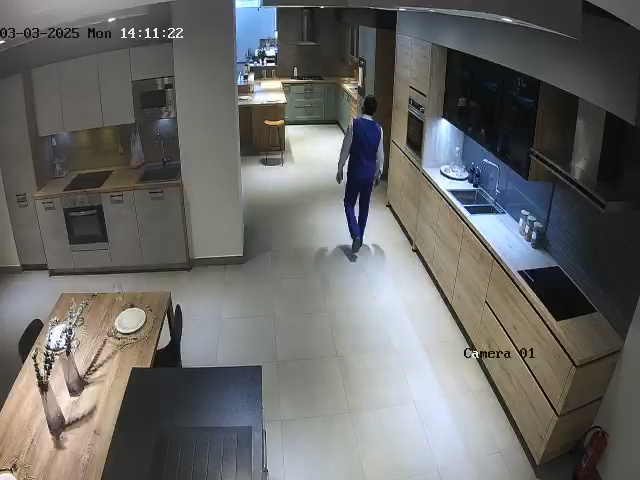employee: (336, 95, 385, 255)
